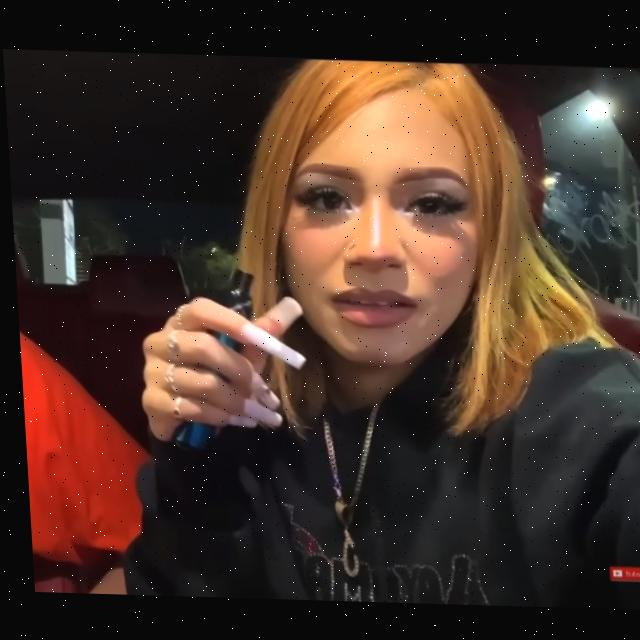vape: (156, 263, 259, 456)
